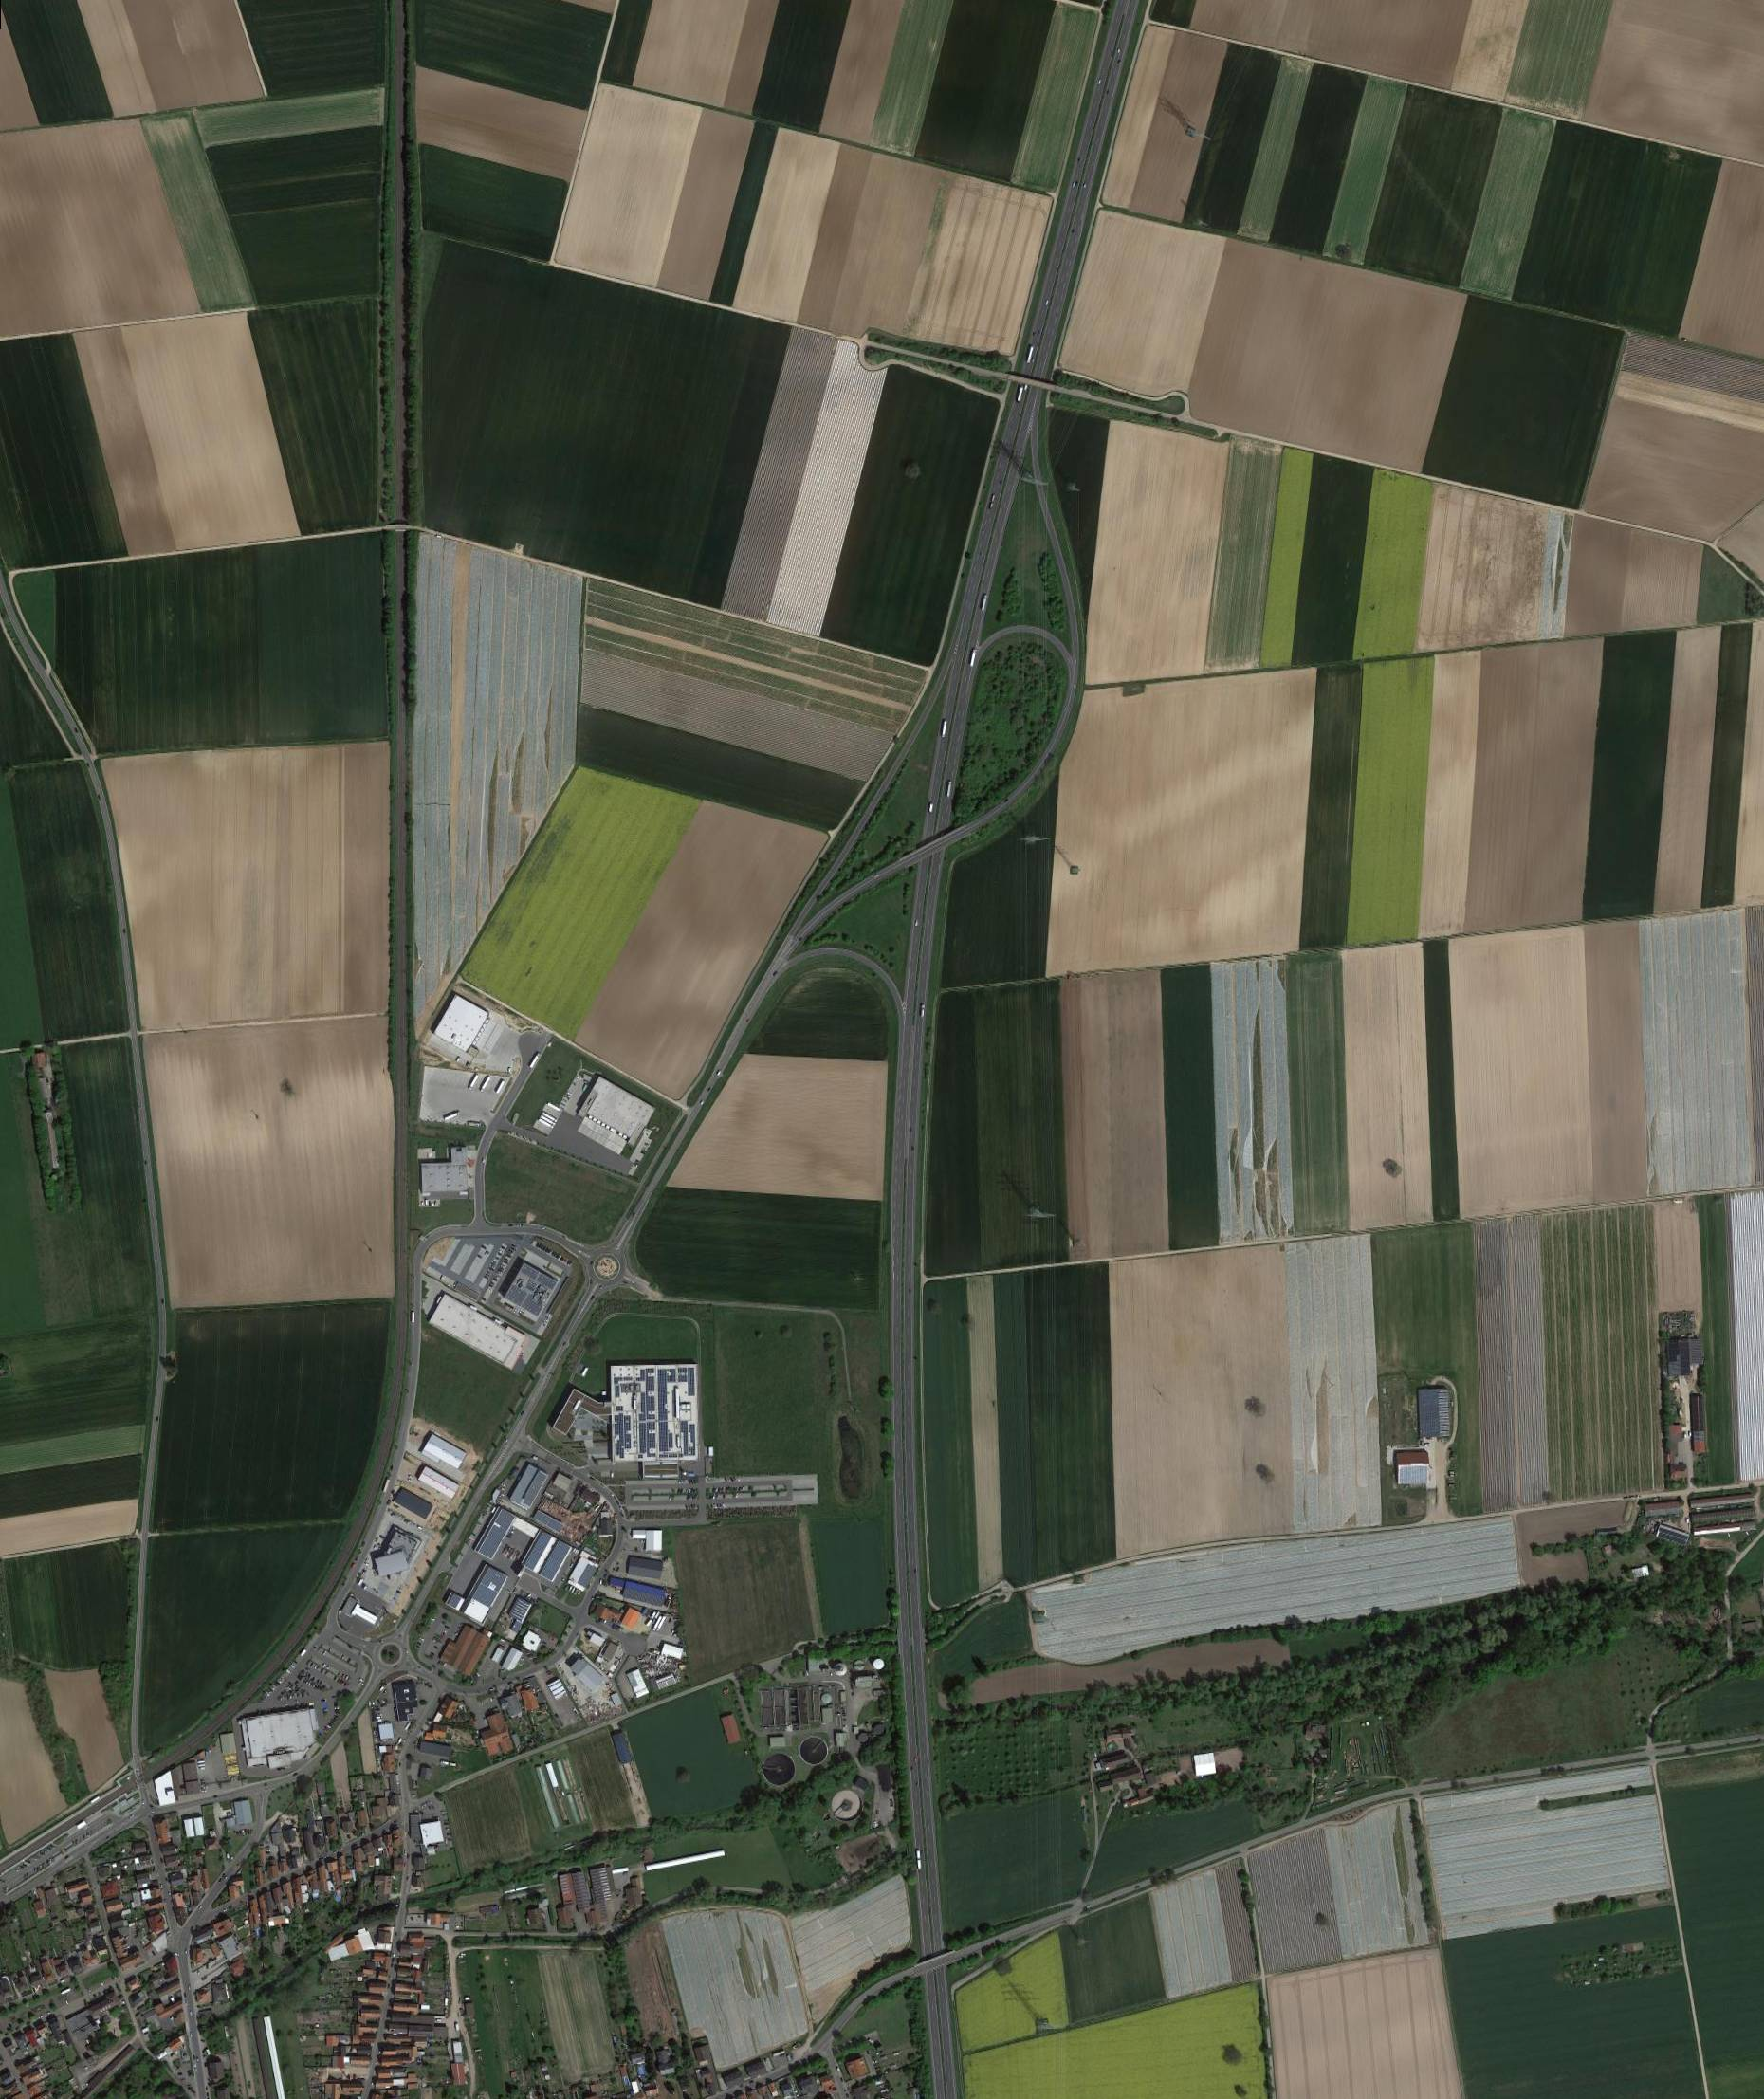roundabout: (590, 1246, 630, 1285), (374, 1637, 406, 1668)
